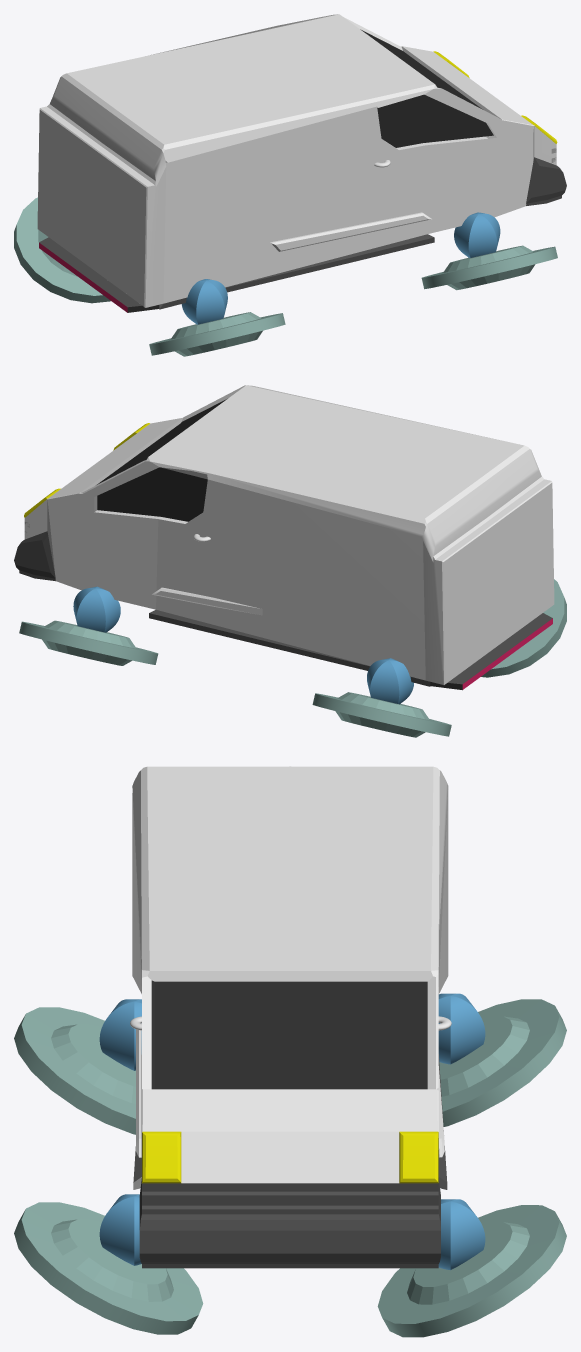
The model's file is Futuristic van.fbx.
The picture shows the model from 3 angles, top to bottom: view 1: azimuth 30°, elevation 25°; view 2: azimuth 150°, elevation 25°; view 3: azimuth 270°, elevation 25°; orthographic projection. The views are drawn at different scales.
Visible parts, largest first — view 1: polySurface1719; view 2: polySurface1719; view 3: polySurface1719.
Boxes of the visible parts, <box> form: polySurface1719: <box>14,14,566,356</box>; polySurface1719: <box>14,385,566,737</box>; polySurface1719: <box>14,766,566,1337</box>.
Bounding box in the file's own units: 128 × 63.19 × 96.85.
